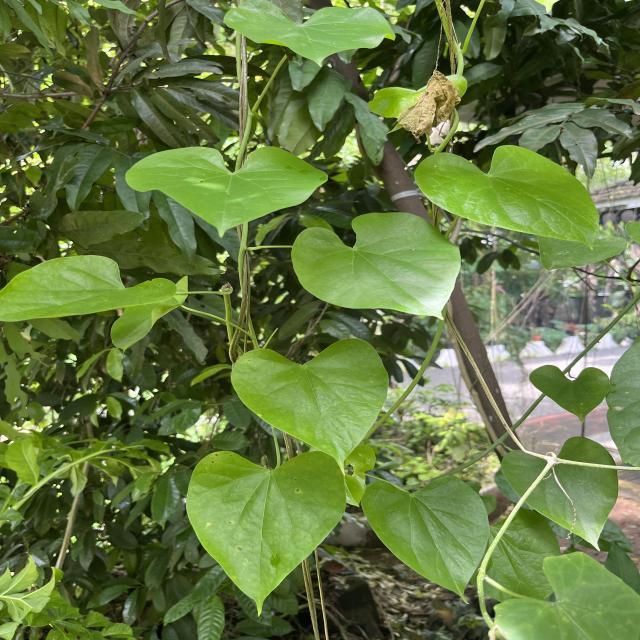Tinospora cordifolia: (184, 448, 348, 618), (228, 335, 390, 478), (412, 141, 602, 252), (124, 142, 332, 240), (289, 210, 463, 323), (356, 470, 492, 608), (498, 435, 620, 555), (0, 252, 180, 323), (221, 0, 400, 70), (528, 362, 614, 428)
